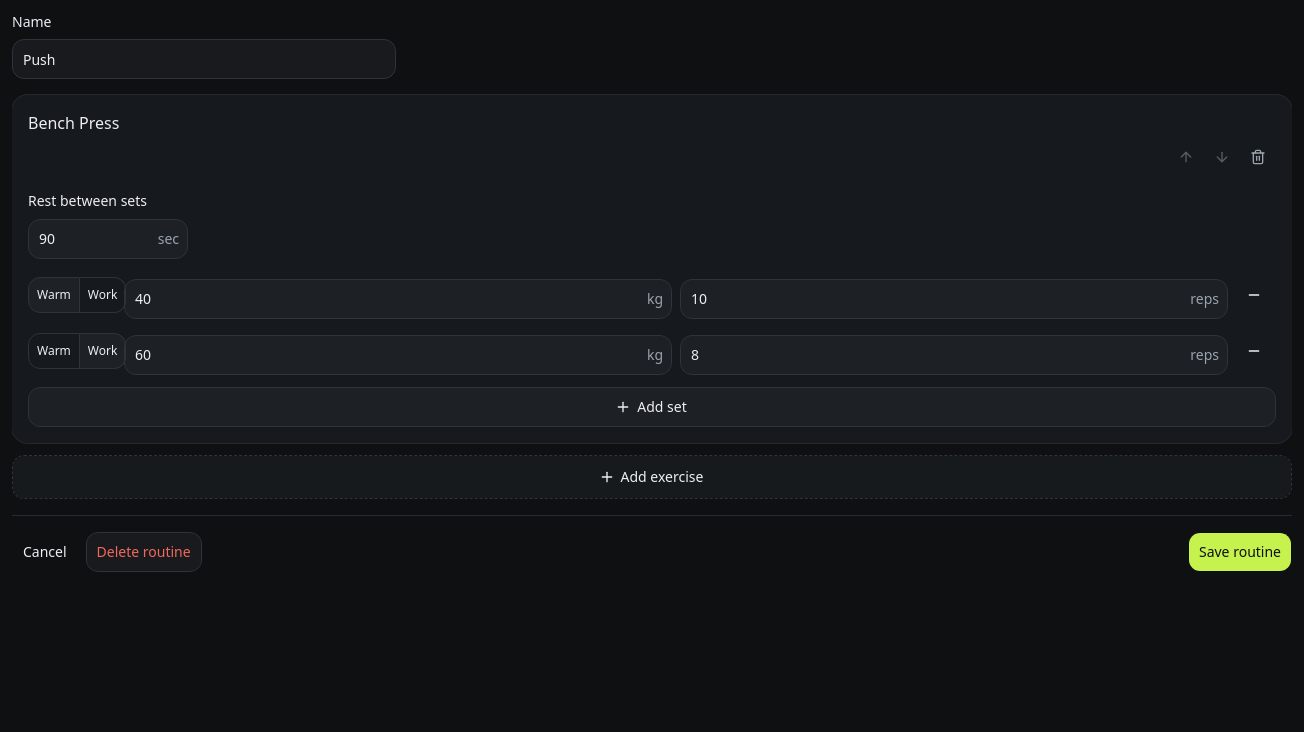
Scenario: RoutineEditor › won't save Rest between sets of 1.5, which the server would refuse
Replace the text in the field labelled "Rest between sets" with "1.5". click: point(93, 238)
box: [29,222,158,254]
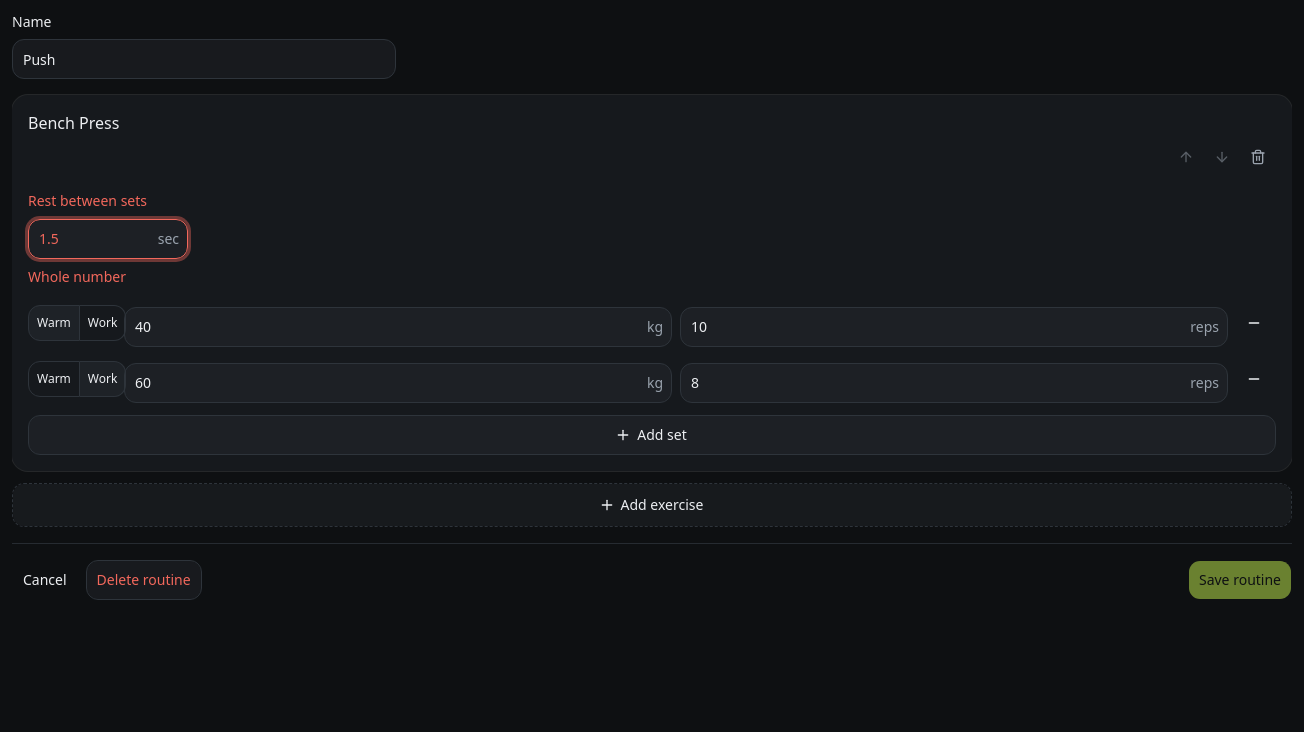
Expected: the text "Whole number" is shown, [28,266,126,286]
Expected: the button "Save routine" is disabled, [1188,560,1292,600]
